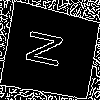N: (25, 27, 72, 73)
